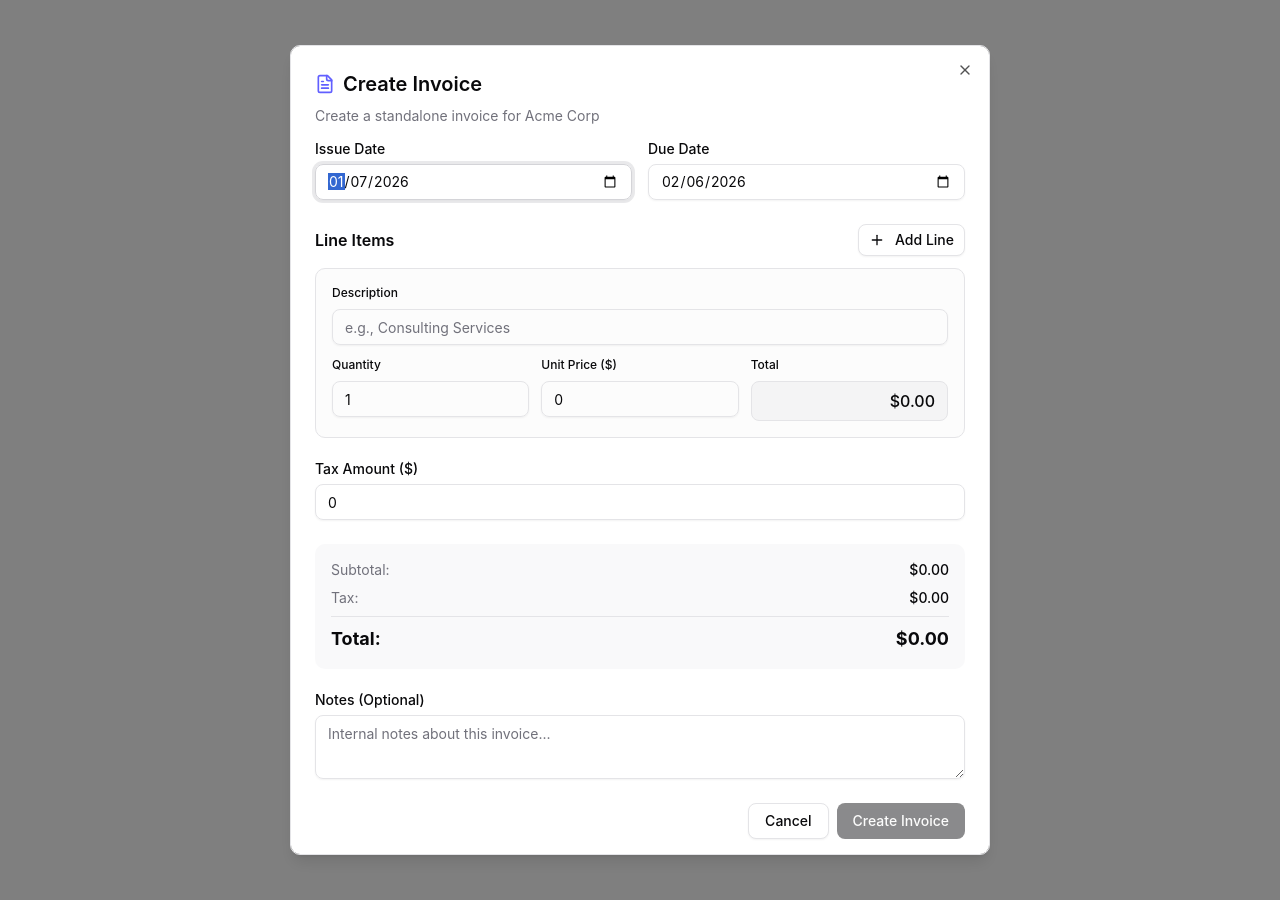
Test: CreateStandaloneInvoiceDialog › Line Items Management › should remove line item when delete button is clicked
Note: Add a second line first
Click the button "Add Line" at (912, 240), box [858,224,965,256]
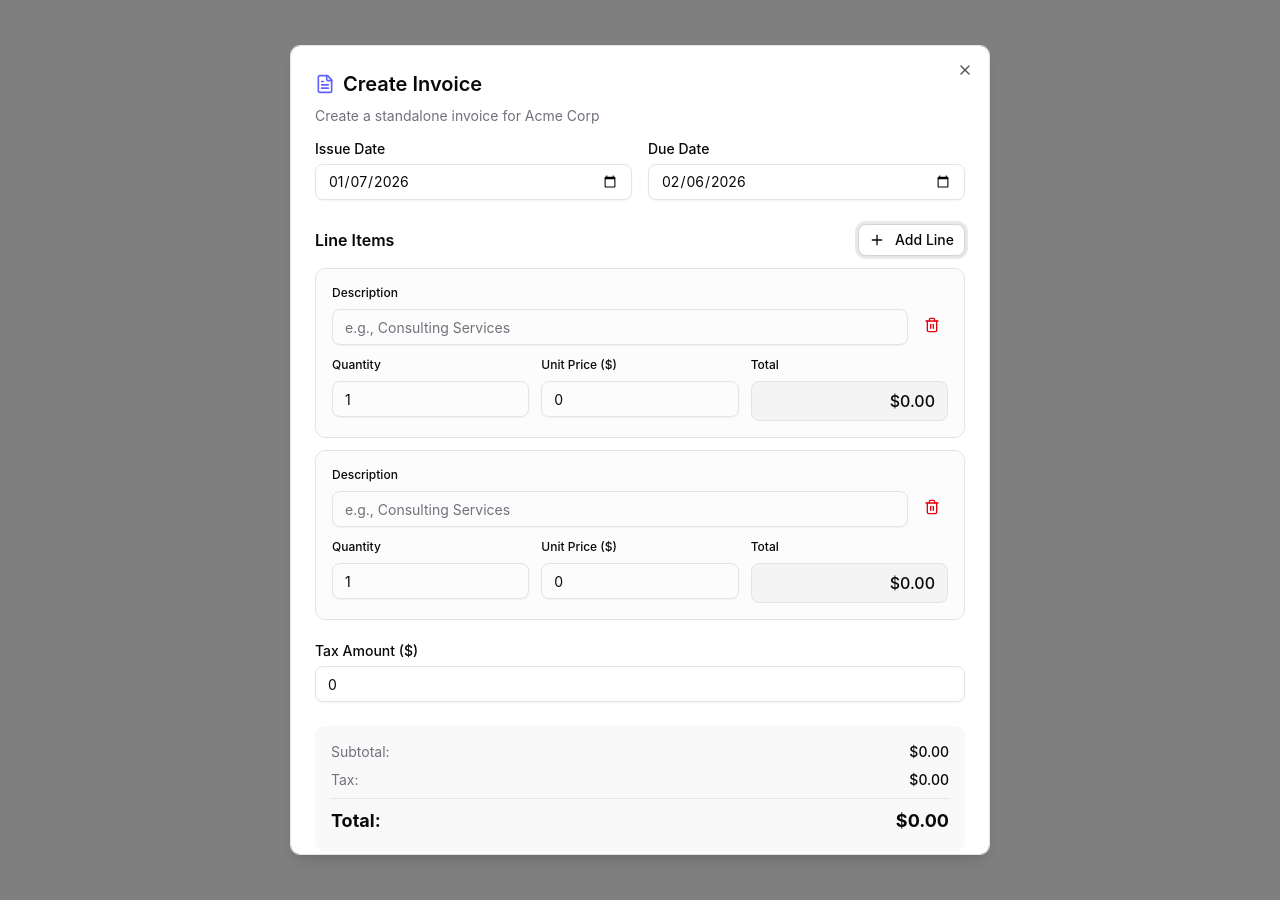
Click the 3rd button at (932, 325), box [916,309,948,341]
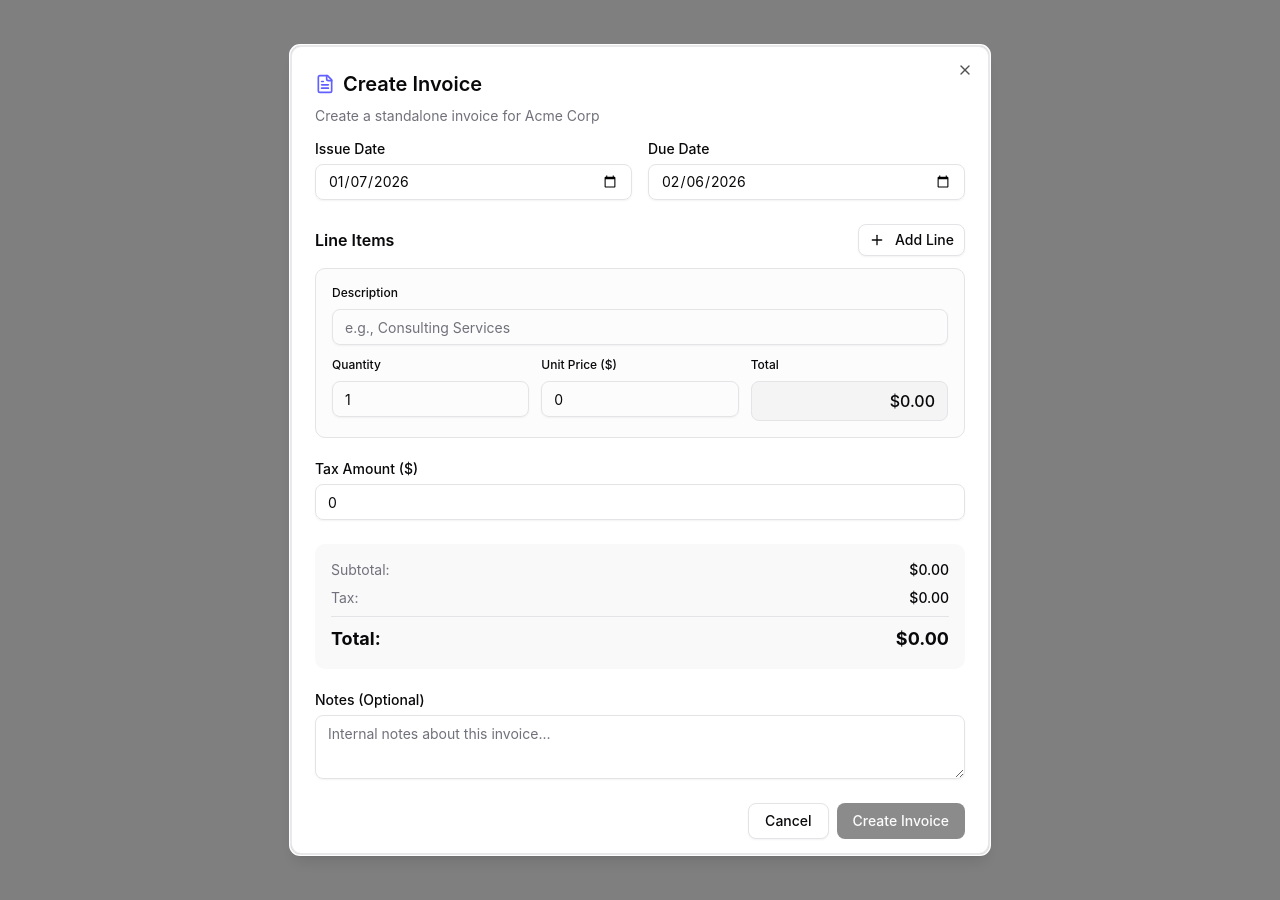
Expected: the number of fields with placeholder "e.g., Consulting Services" is 1, [332,309,948,345]
